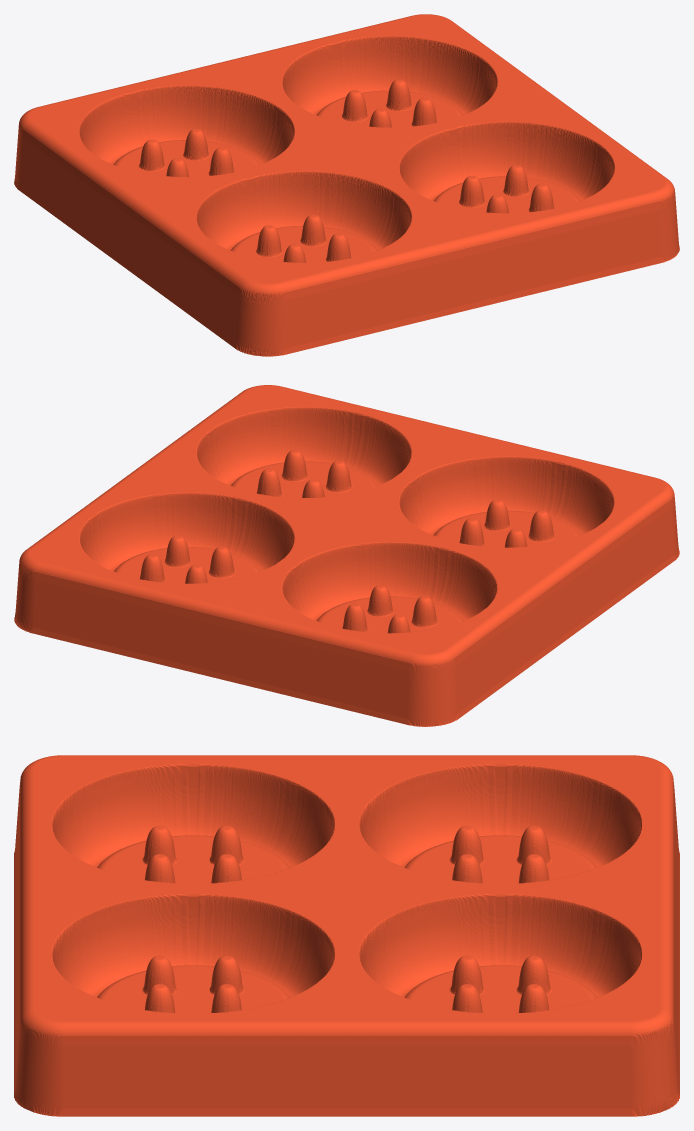
File: mold.glb
3 views of the same model, one above another, from view 1: azimuth 30°, elevation 25°; view 2: azimuth 150°, elevation 25°; view 3: azimuth 270°, elevation 25° (orthographic). The views are drawn at different scales.
Parts seen in each view (by area): view 1: geometry_0; view 2: geometry_0; view 3: geometry_0.
Part boxes in pixels (x1=…): geometry_0: x1=14, y1=14, x2=679, y2=356; geometry_0: x1=14, y1=385, x2=679, y2=726; geometry_0: x1=14, y1=755, x2=679, y2=1116.
Bounding box in the file's own units: 0.1211 × 0.0175 × 0.1211.
